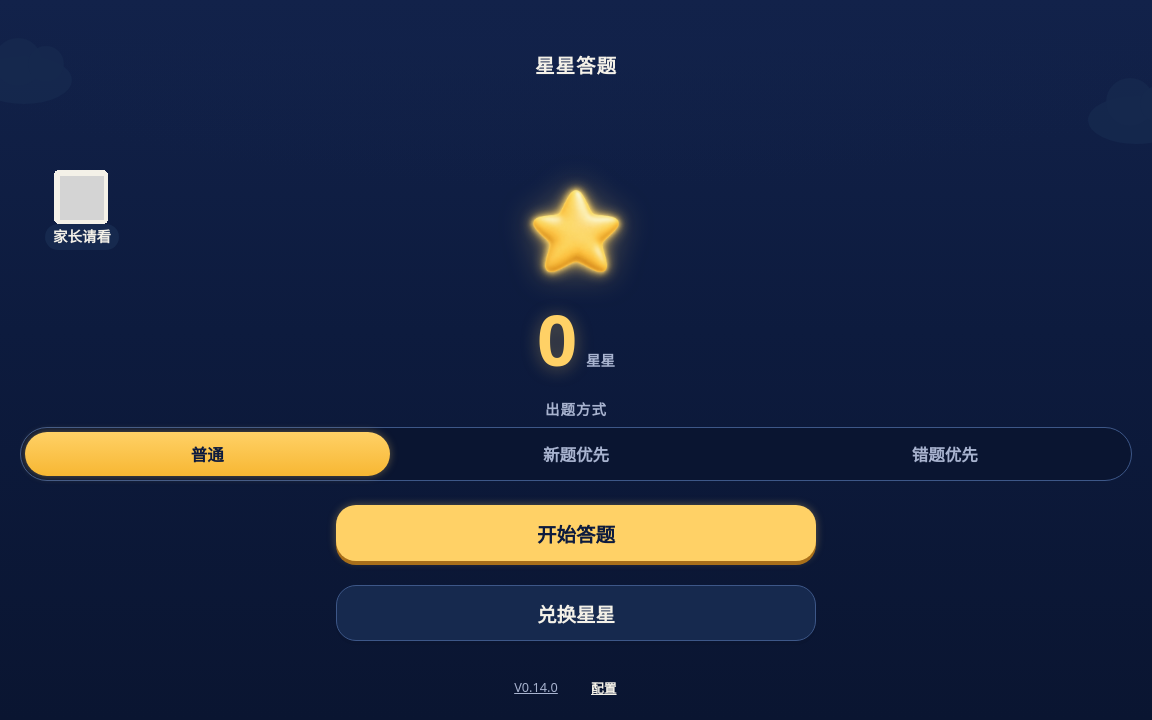
#316 all-device guide discovery（#322 修订：孩子设备不再显示首页贴纸） › parent / active retains the home sticker and can open the actual guide from home
Click the button with aria-label "家长请看": (82, 198) left=60, top=176, right=104, bottom=220
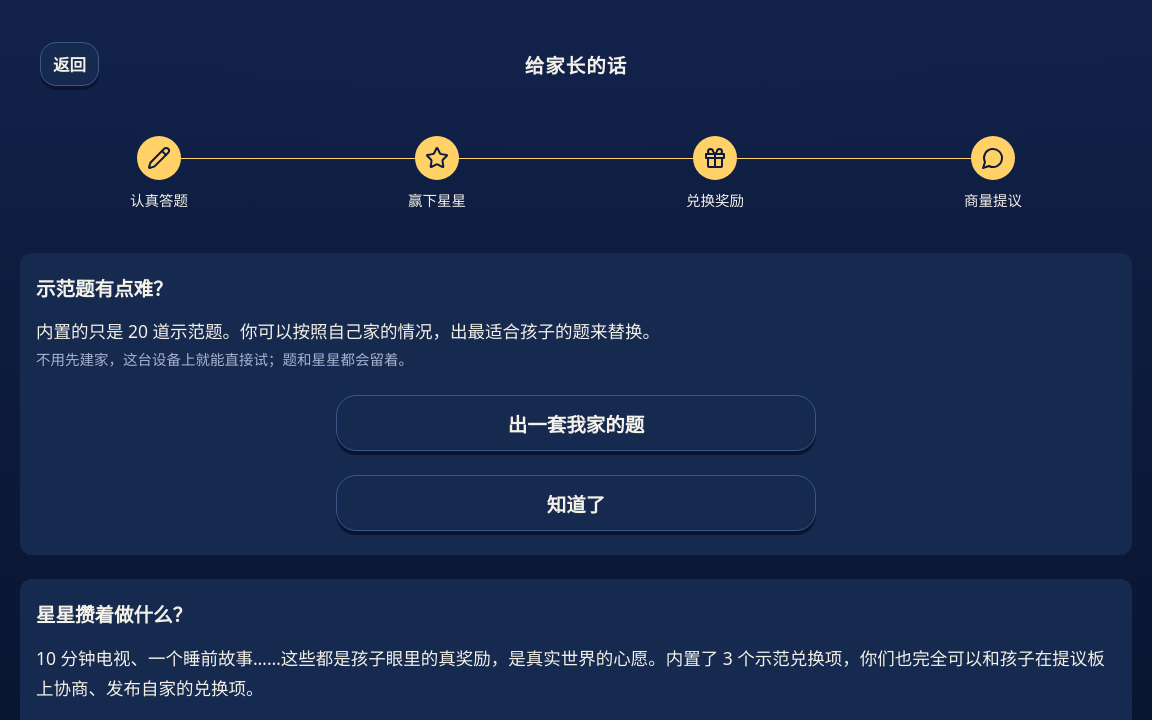
Now the heading "给家长的话" is shown, box left=525, top=50, right=627, bottom=78
